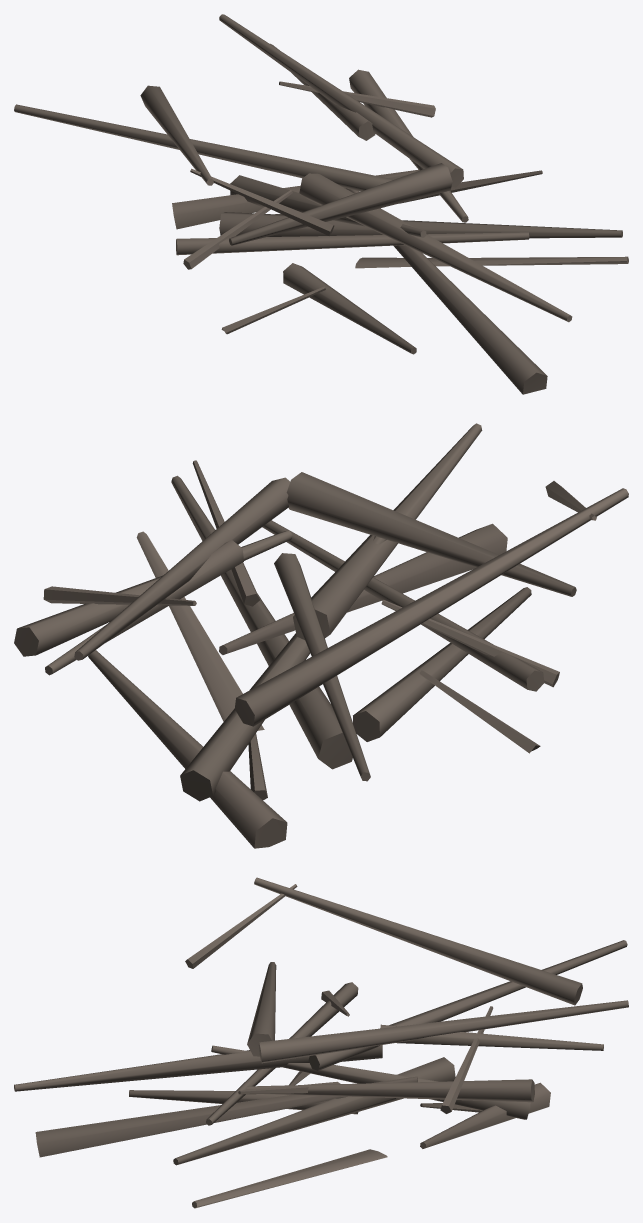
File: dry-branch-pile-v01.glb
The picture shows the model from 3 angles, top to bottom: view 1: azimuth 30°, elevation 25°; view 2: azimuth 150°, elevation 25°; view 3: azimuth 270°, elevation 25°; orthographic projection. The views are drawn at different scales.
Parts seen in each view (by area): view 1: branches; view 2: branches; view 3: branches.
Part boxes in pixels (bbox=[...]): branches: bbox=[14, 14, 628, 394]; branches: bbox=[14, 423, 628, 848]; branches: bbox=[14, 877, 628, 1208].
Bounding box in the file's own units: 1.74 × 0.775 × 2.46.
